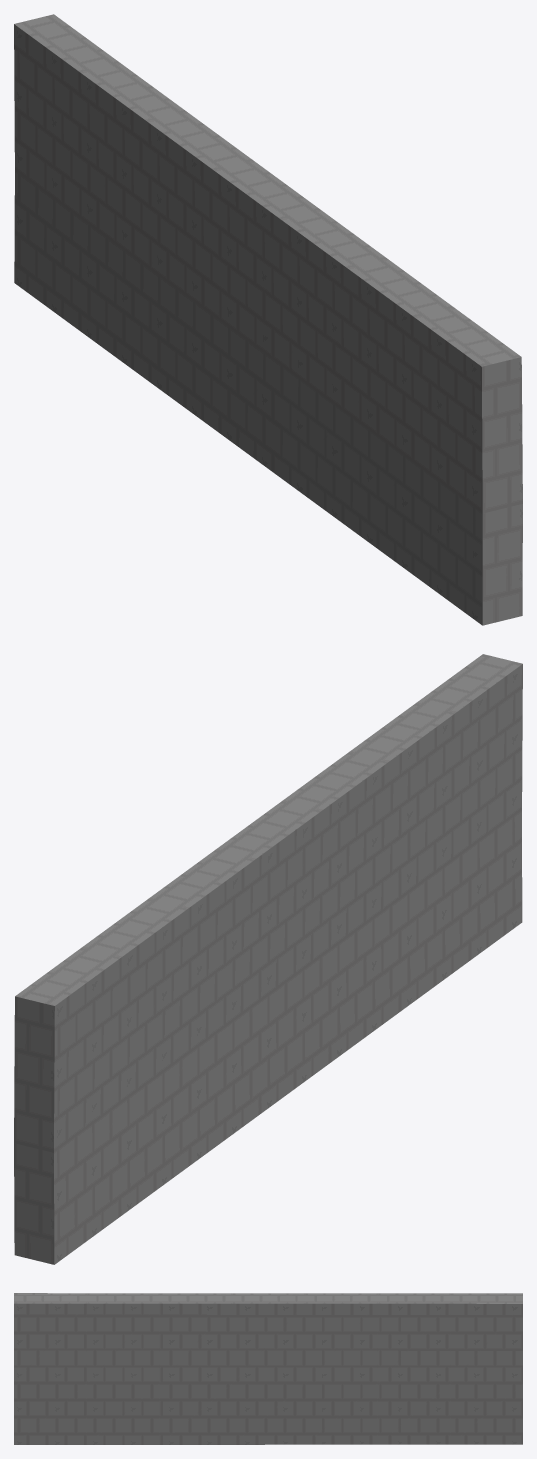
The model's file is KasteelMuur.fbx.
3 renders of one model, top to bottom at view 1: azimuth 30°, elevation 25°; view 2: azimuth 150°, elevation 25°; view 3: azimuth 270°, elevation 25°, orthographic. The views are drawn at different scales.
Parts seen in each view (by area): view 1: KasteelMuurLos; view 2: KasteelMuurLos; view 3: KasteelMuurLos.
Part boxes in pixels (x1,y1,x2,y2): KasteelMuurLos: (14, 14, 522, 625); KasteelMuurLos: (14, 654, 522, 1264); KasteelMuurLos: (14, 1293, 522, 1444).
Size of the model in its own units: 0.6868 by 4.13 by 13.51.
